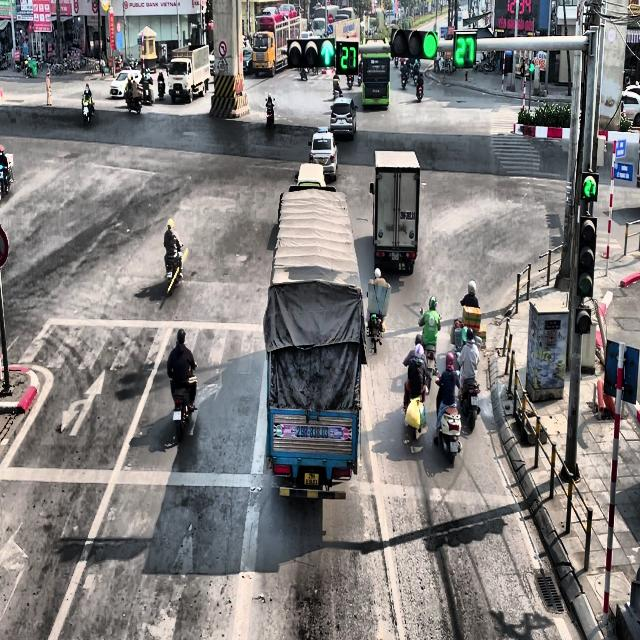lisence_plate: (294, 421, 329, 440), (302, 470, 320, 488), (399, 209, 416, 223), (172, 408, 182, 421), (392, 251, 399, 261), (318, 158, 326, 165), (340, 118, 344, 125), (373, 90, 381, 93), (375, 99, 379, 104)
